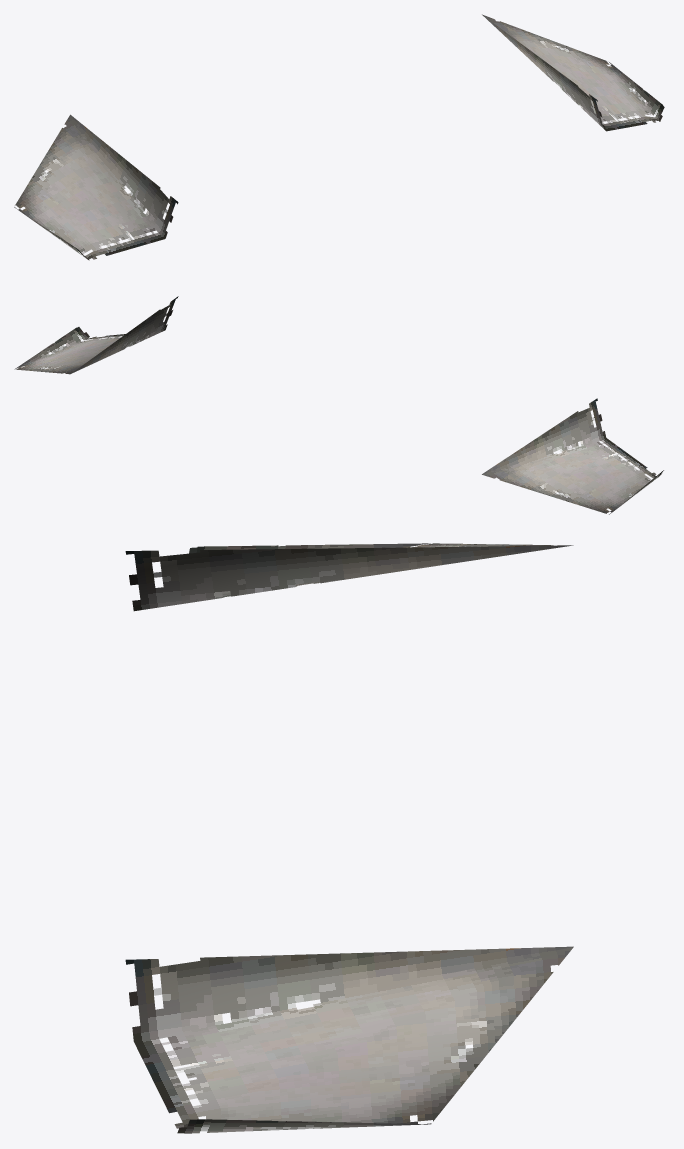
File: hutt_fighter_medium_missle_pod_s01_l2.fbx
The picture shows the model from 3 angles, top to bottom: view 1: azimuth 30°, elevation 25°; view 2: azimuth 150°, elevation 25°; view 3: azimuth 270°, elevation 25°; orthographic projection. The views are drawn at different scales.
Parts seen in each view (by area): view 1: mesh_node; view 2: mesh_node; view 3: mesh_node.
Part boxes in pixels (left/top/right/bottom): mesh_node: left=14, top=14, right=664, bottom=260; mesh_node: left=14, top=296, right=663, bottom=514; mesh_node: left=125, top=543, right=573, bottom=1133.
Bounding box in the file's own units: 9.18 × 0.8217 × 3.1.
Materials: 1 (1 with a texture image).
